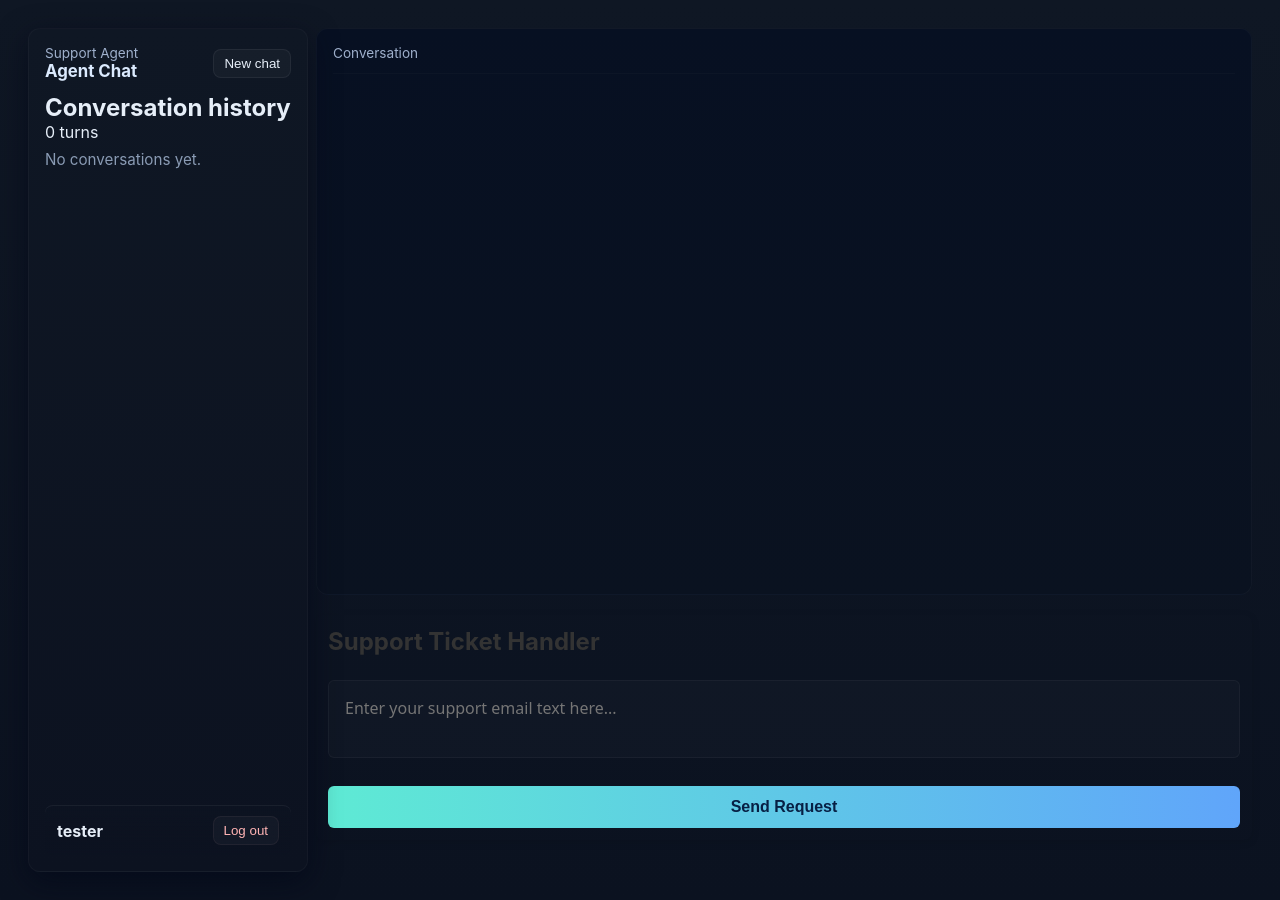
Test case: conversation persistence › keeps assistant messages attached to each saved conversation when reopening old chats
Expected: the text "tester" is shown, [57,820,103,840]
Type "First billing issue" into the text box with placeholder "Enter your support email text here..." at (784, 719), box [328,680,1240,758]
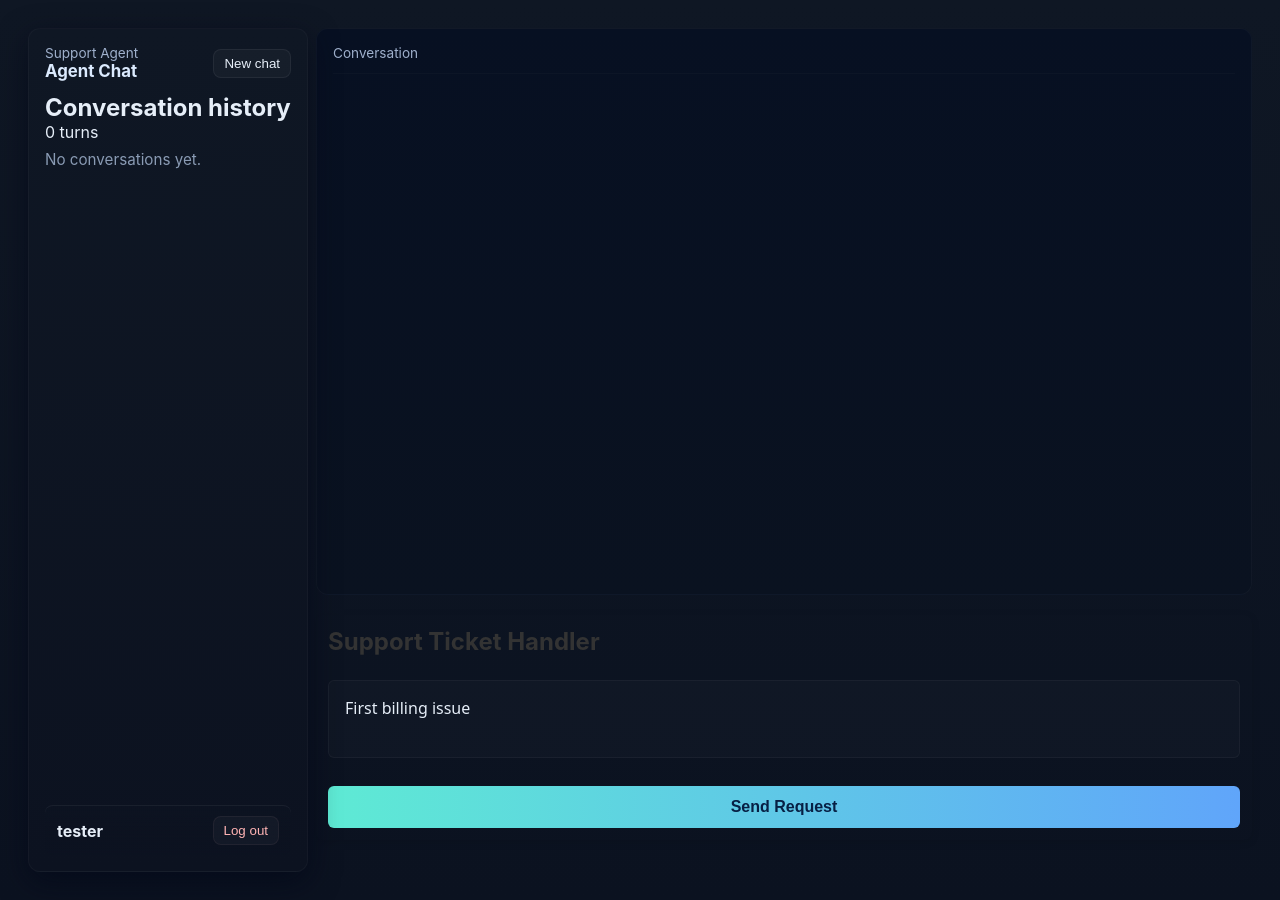
Click the button "Send Request" at (784, 807), box [328,786,1240,828]
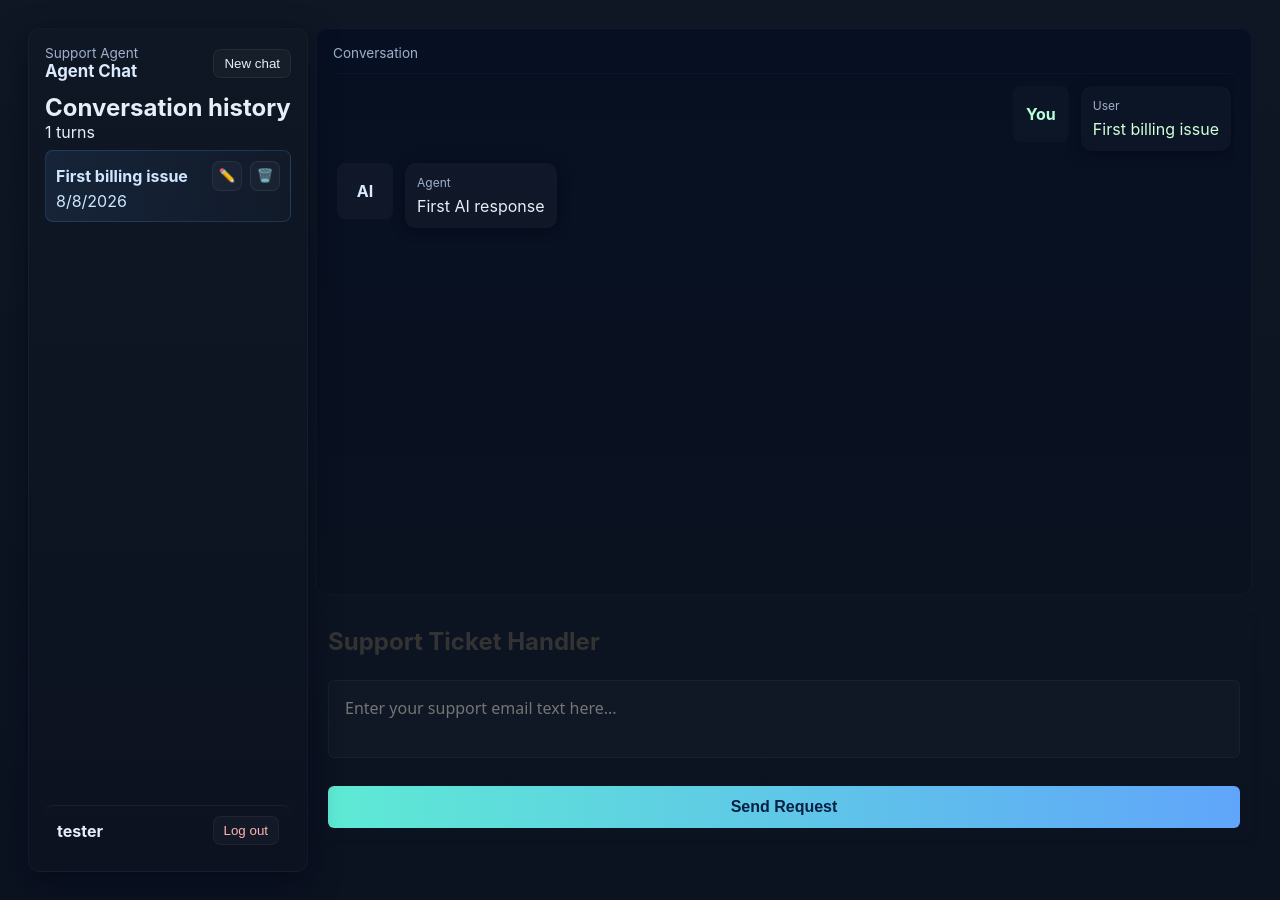
Result: the text "First billing issue" below "turns" is shown at [56,166,188,186]
Result: the text "First AI response" is shown at [417,196,544,216]
Click the button "New chat" at (252, 63), box [213,48,291,78]
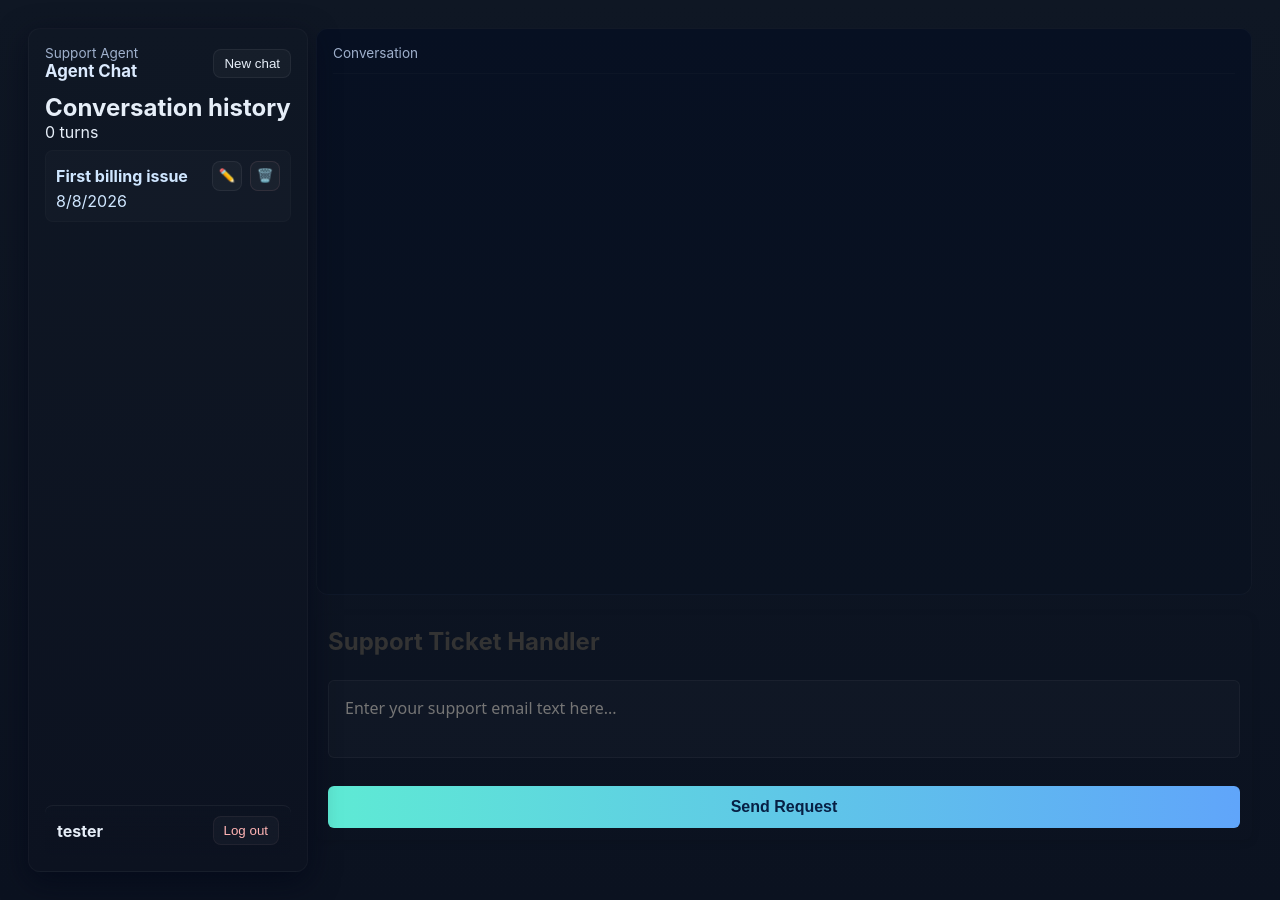
Type "Second shipping issue" into the text box with placeholder "Enter your support email text here..." at (784, 719), box [328,680,1240,758]
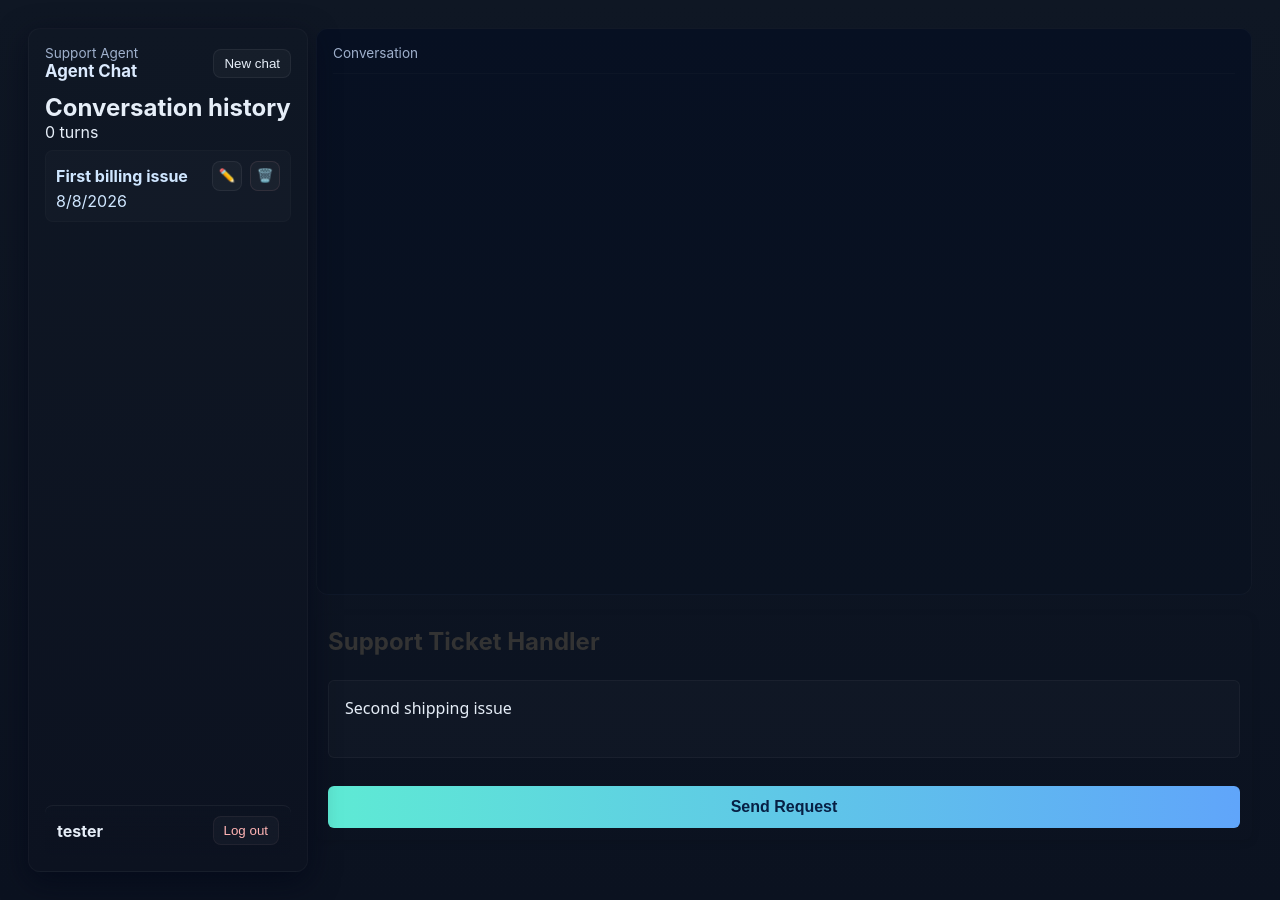
Click the button "Send Request" at (784, 807), box [328,786,1240,828]
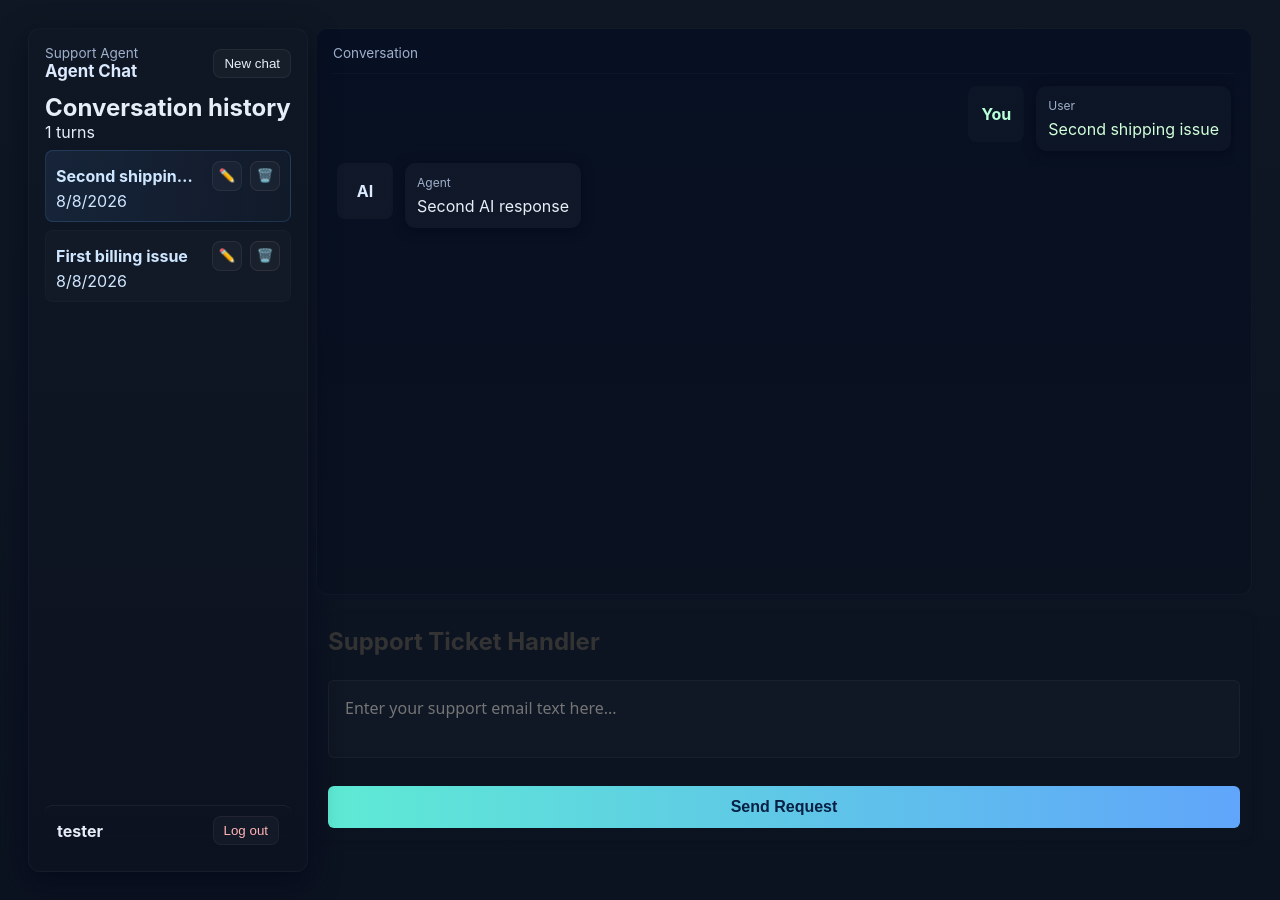
Result: the text "Second shipping issue" below "turns" is shown at [56,166,232,186]
Result: the text "Second AI response" is shown at [417,196,569,216]
Click the text "First billing issue" at (122, 256), box [56,246,188,266]
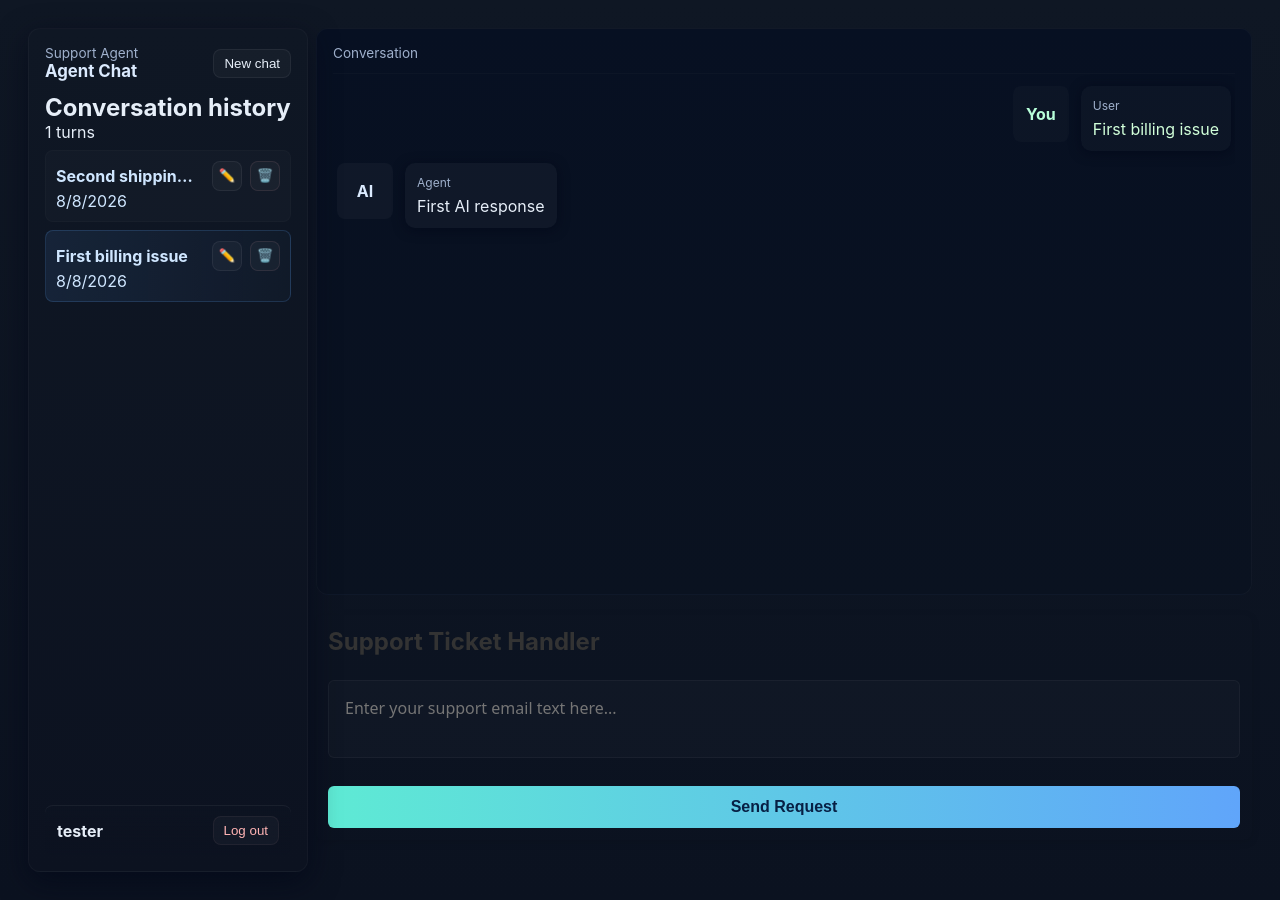
Result: the text "First billing issue" below "turns" is shown at [56,246,188,266]
Result: the text "First AI response" is shown at [417,196,544,216]
Result: the text "Second AI response" is gone
